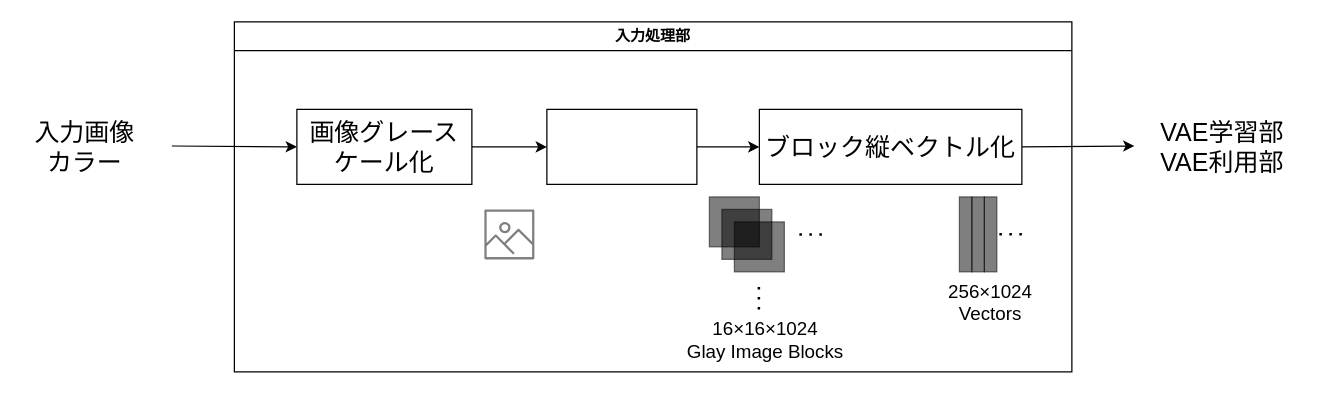
Some shapes in this 1318 by 394 pixel diagram are drawn without their labels. The shapes that lost their labels are listed below. From the top down, each one's centre as x and y in pixels, then its label:
At (x=621, y=146): "ブロック分割".
At (x=509, y=234): "512×512 Glay Image".
